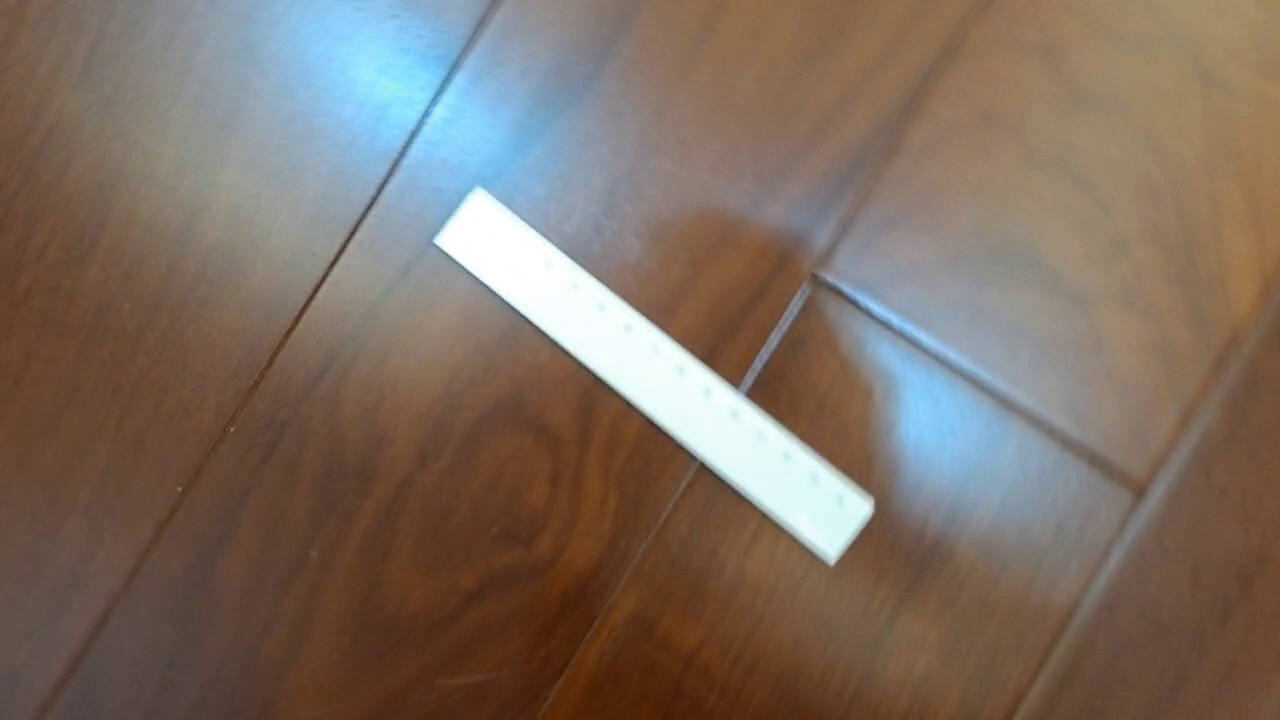ruler: (428, 183, 877, 569)
